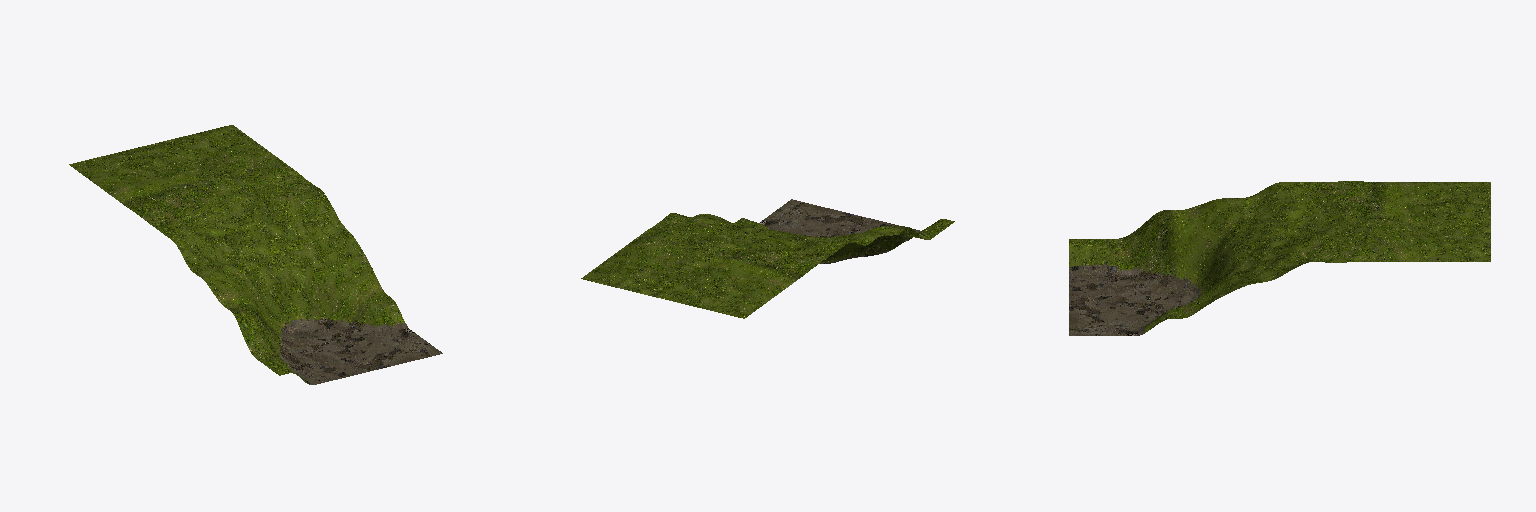
3 views of the same model, side by side, from view 1: azimuth 30°, elevation 25°; view 2: azimuth 150°, elevation 25°; view 3: azimuth 270°, elevation 25° (orthographic).
Visible parts, largest first — view 1: Plane.001; view 2: Plane.001; view 3: Plane.001.
Boxes of the visible parts, box(x1,y1,x2,y2) form: Plane.001: box(69, 125, 442, 384); Plane.001: box(581, 199, 954, 318); Plane.001: box(1069, 181, 1490, 335).
Size of the model in its own units: 83.72 by 39.46 by 187.
2 materials, 2 textured.